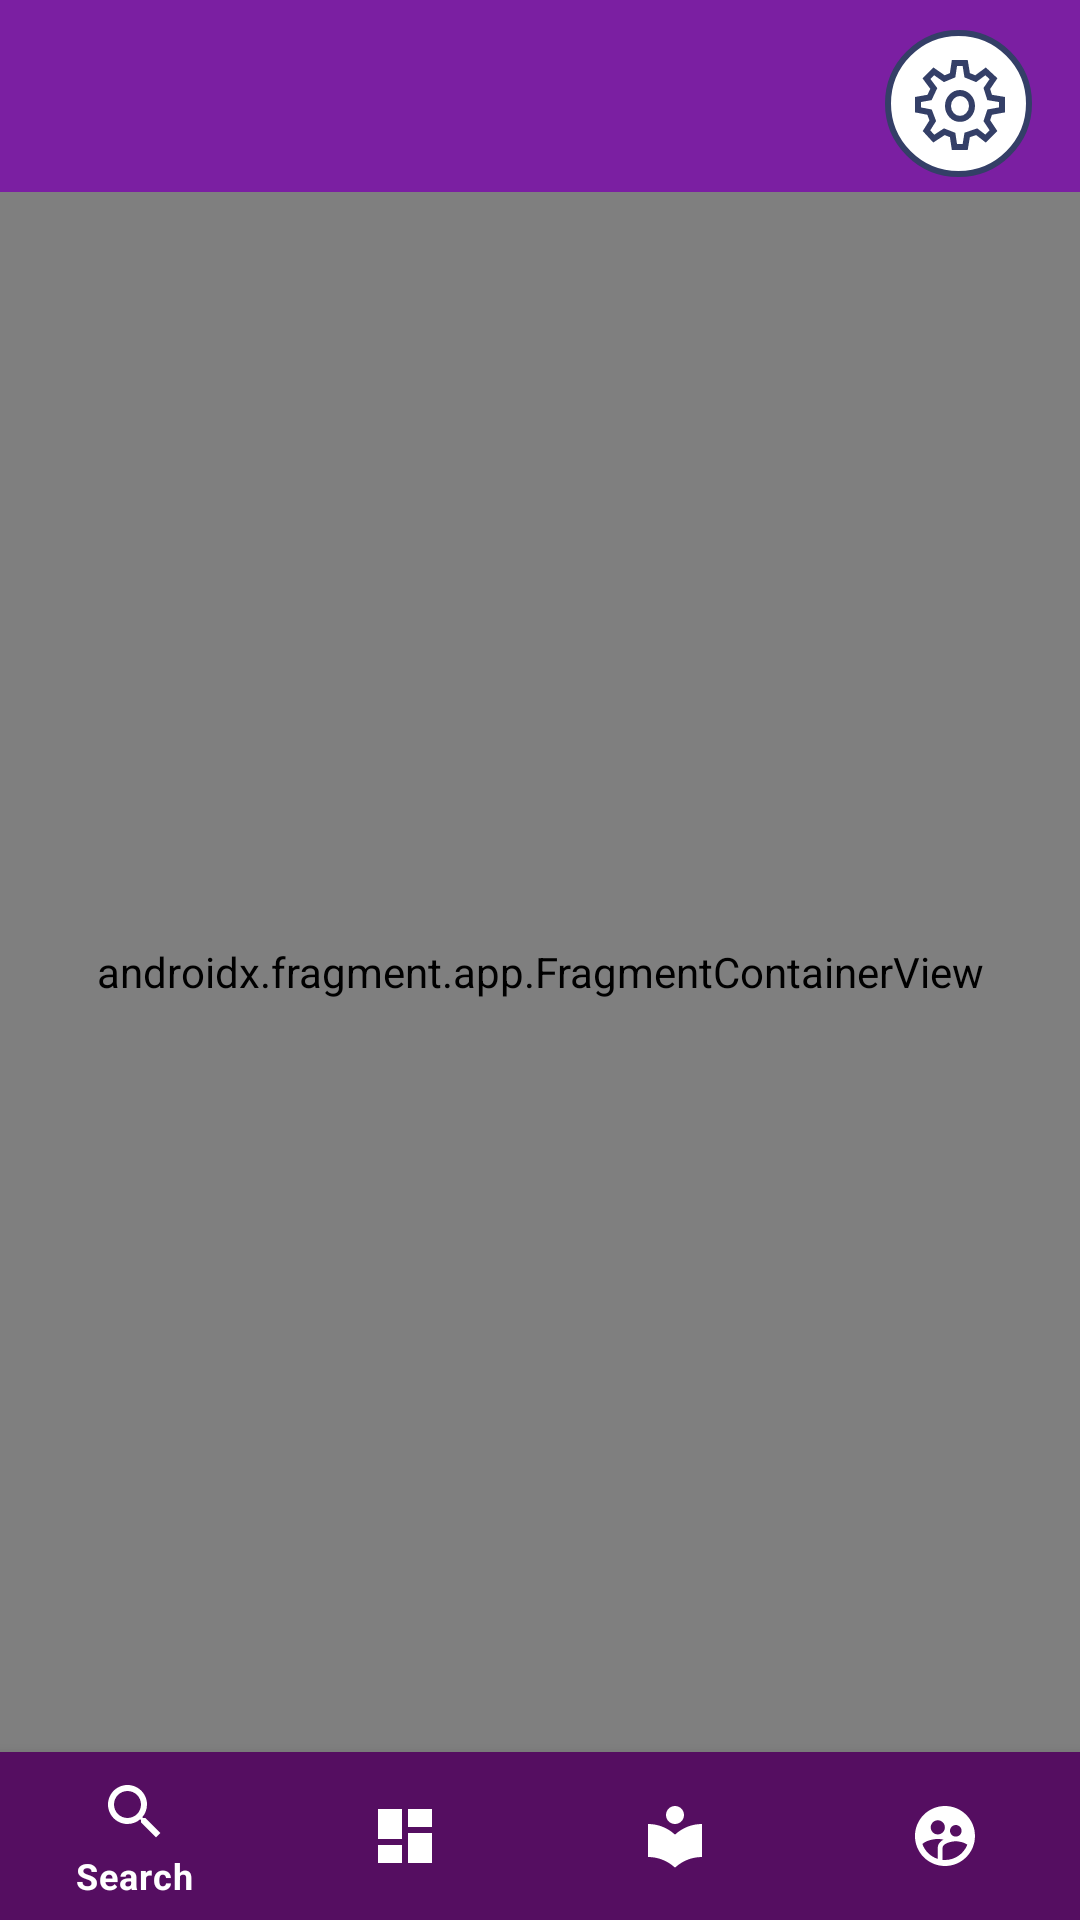

Icon bounding boxes for this 1080×1920 phone screenshot, format rect(x1, y1, x2, y2):
Settings Button Icon: rect(885, 30, 1032, 177)
